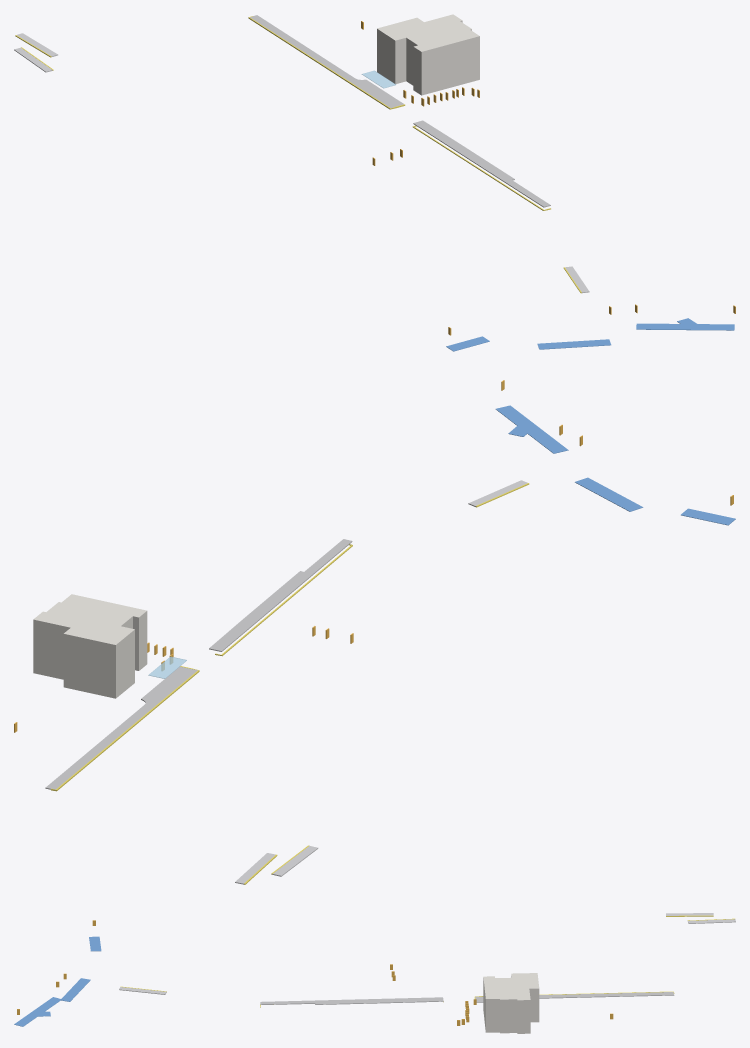
Rendered from 8508053-steinibach.glb.
3 views of the same model, one above another, from view 1: azimuth 30°, elevation 25°; view 2: azimuth 150°, elevation 25°; view 3: azimuth 270°, elevation 25° (orthographic). The views are drawn at different scales.
Parts seen in each view (by area): view 1: building_part@x, platform_surface@0, passage@-1, boarding_edge@0, platform_body@0, access_point@0; view 2: building_part@x, platform_surface@0, passage@-1, boarding_edge@0, platform_body@0; view 3: building_part@x, platform_surface@0, passage@-1, platform_body@0, boarding_edge@0, access_point@0, passage@-2.
Boxes of the visible parts, x1,y1,x2,y2 form: building_part@x: (377,14,479,95); platform_surface@0: (250,15,550,207); passage@-1: (446,318,734,351); boarding_edge@0: (15,16,581,293); platform_body@0: (14,33,589,293); access_point@0: (361,21,735,335); building_part@x: (33,594,147,698); platform_surface@0: (45,539,352,789); passage@-1: (495,405,735,525); boarding_edge@0: (51,483,529,884); platform_body@0: (235,480,527,884); building_part@x: (483,973,539,1033); platform_surface@0: (260,992,674,1004); passage@-1: (14,936,101,1026); platform_body@0: (119,913,735,994); boarding_edge@0: (120,915,734,1007); access_point@0: (17,920,613,1025); passage@-2: (61,978,90,1001).
Bounding box in the file's own units: 108 × 23.12 × 272.
